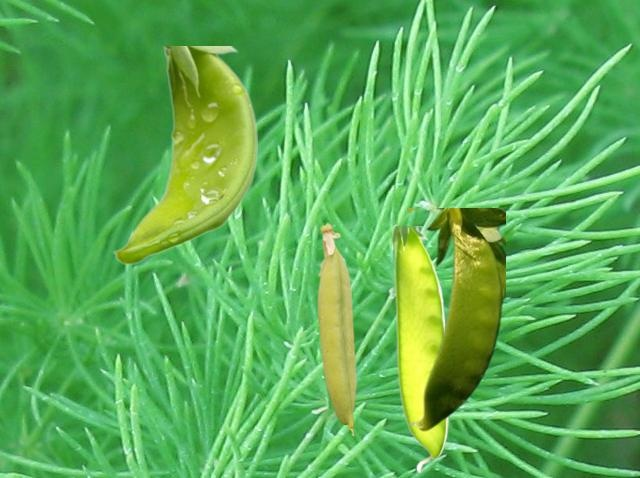pea: (112, 46, 256, 263), (408, 208, 504, 430), (392, 226, 447, 472), (317, 222, 356, 435)
